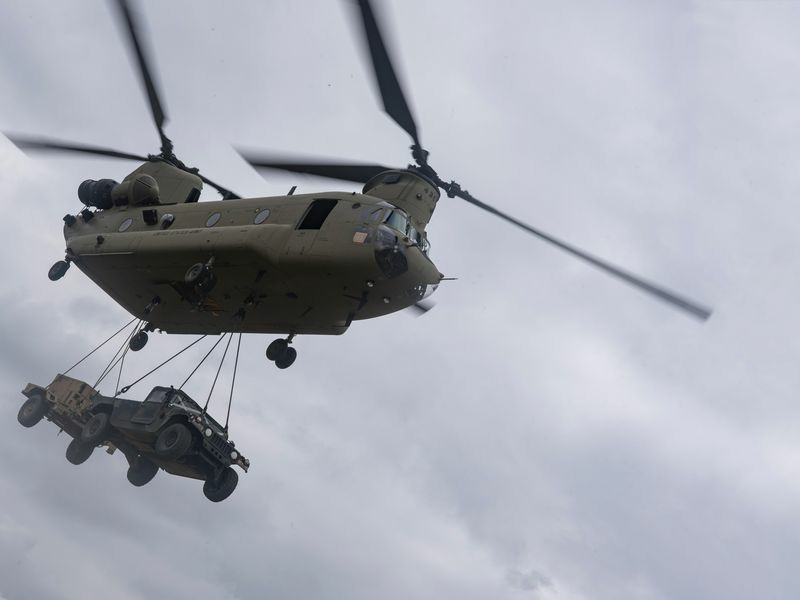HMMWV: (21, 361, 270, 504)
chinook: (45, 74, 499, 361)
